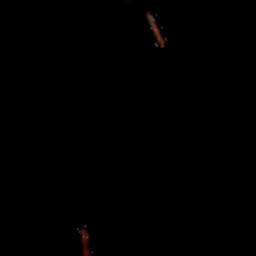boat: (143, 6, 169, 49), (72, 223, 99, 256)
